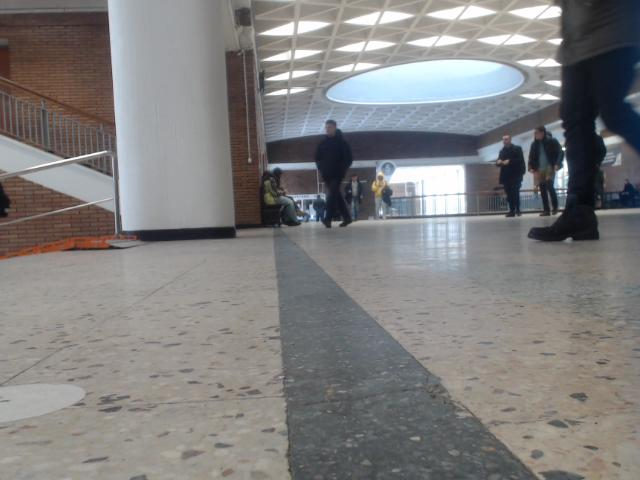rampDown: (0, 235, 139, 259)
ramps-railing: (0, 151, 121, 234)
